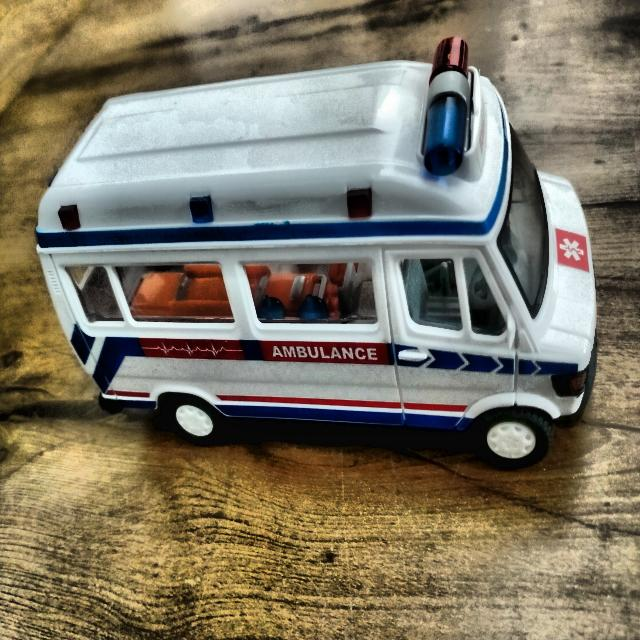Ambulance: (34, 28, 610, 494)
